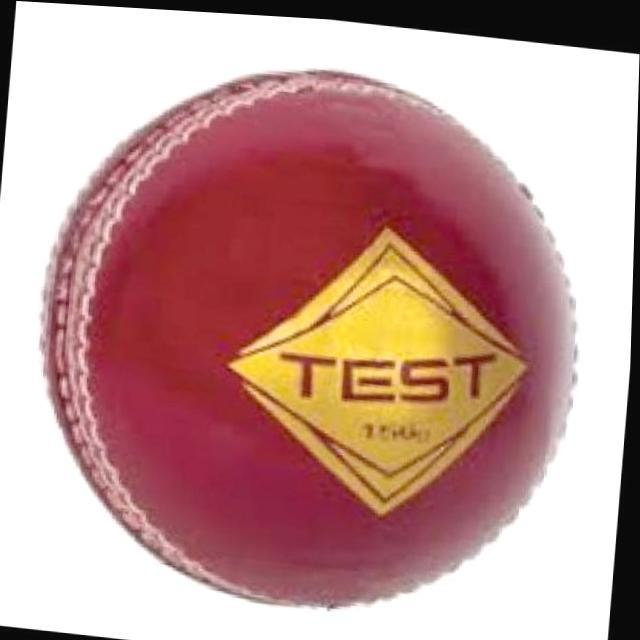-: (37, 48, 618, 618)
